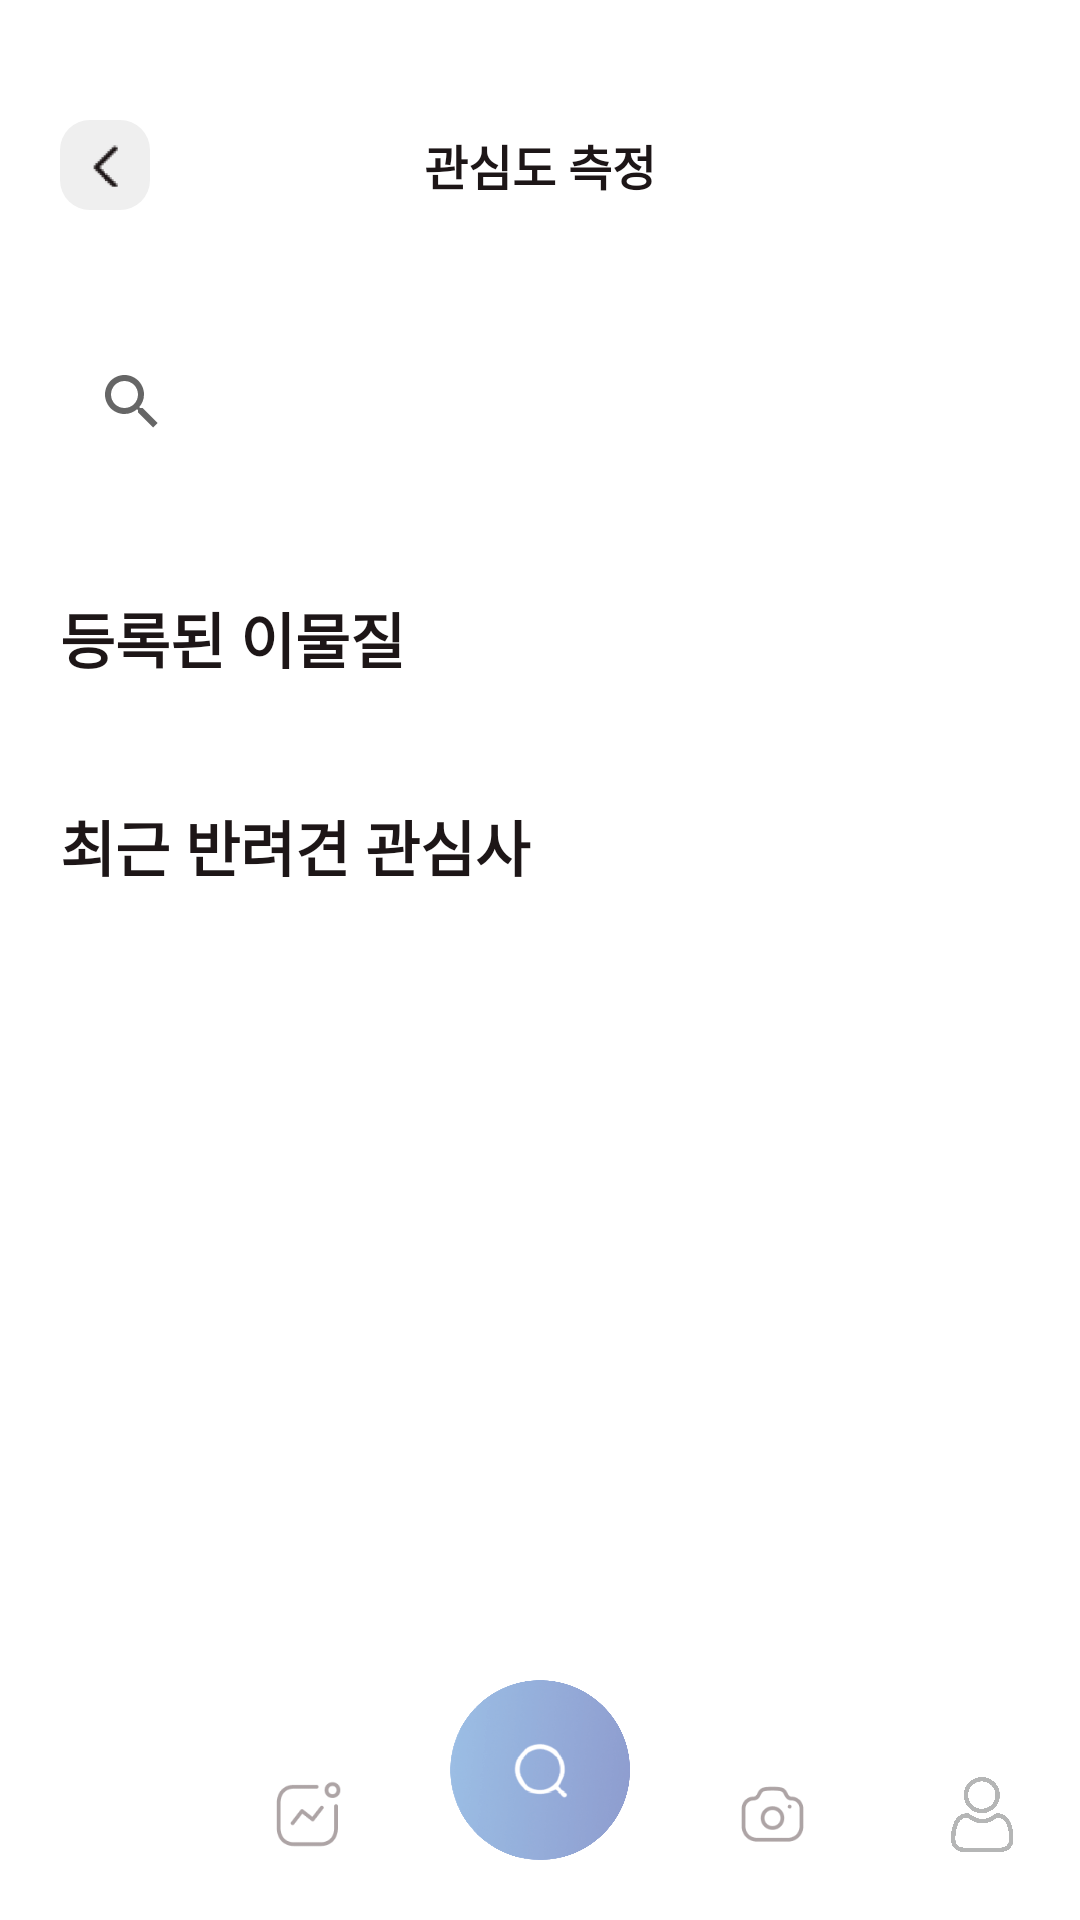

Icons on this 1080px x 1920px Android screen, each with its box as (x1,y1,x2,y2):
back: (60,120,150,210)
navbar camera: (741,1787,804,1842)
navbar photo: (277,1782,341,1846)
navbar profile: (951,1777,1013,1852)
navbar search: (450,1680,630,1860)
